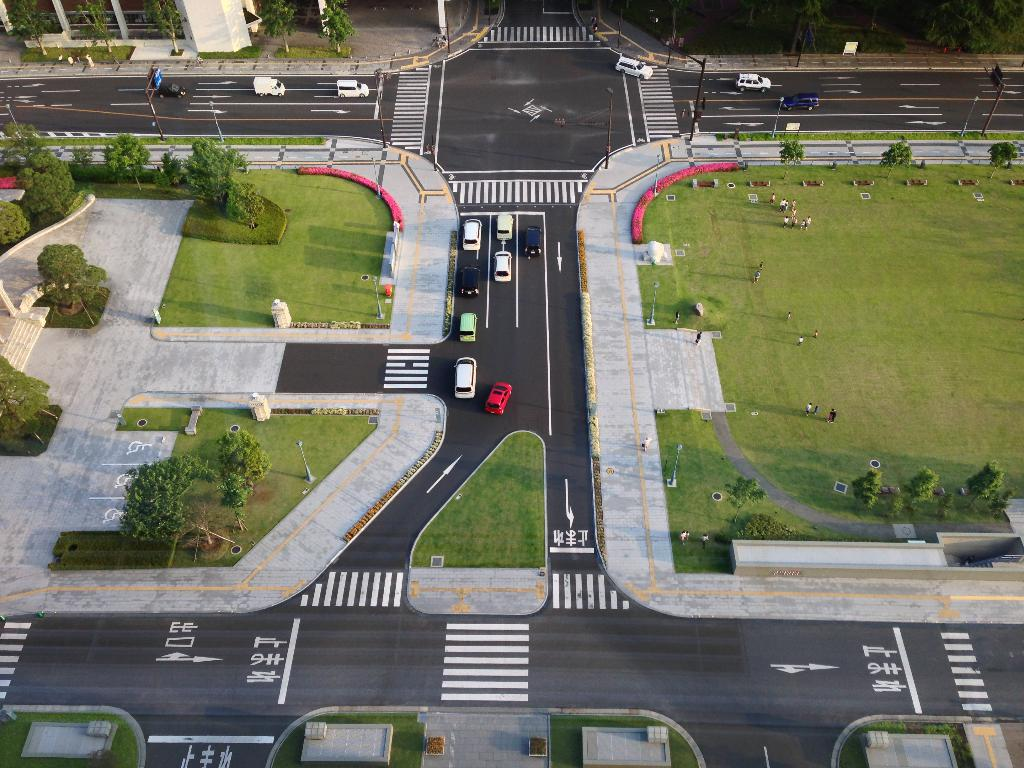Tree: (111, 451, 213, 536), (923, 0, 1024, 54), (31, 243, 106, 311), (180, 136, 252, 205), (16, 150, 84, 215), (0, 356, 51, 441), (209, 426, 278, 488), (100, 130, 152, 192), (71, 0, 124, 58), (7, 0, 57, 55), (139, 0, 188, 56), (720, 475, 776, 524), (315, 0, 361, 56), (256, 0, 305, 52), (962, 454, 1003, 511), (223, 177, 266, 230), (217, 473, 254, 532), (843, 466, 887, 512), (182, 497, 219, 549), (900, 463, 937, 512), (795, 0, 830, 51), (981, 140, 1021, 179), (773, 137, 808, 181), (877, 140, 913, 181), (148, 150, 182, 191), (0, 199, 26, 247), (986, 483, 1018, 516), (929, 485, 954, 523), (880, 491, 908, 520)
